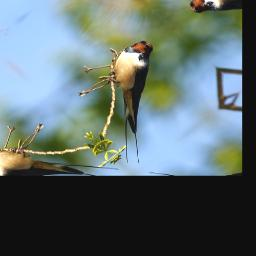Swallow: (59, 35, 217, 168)
